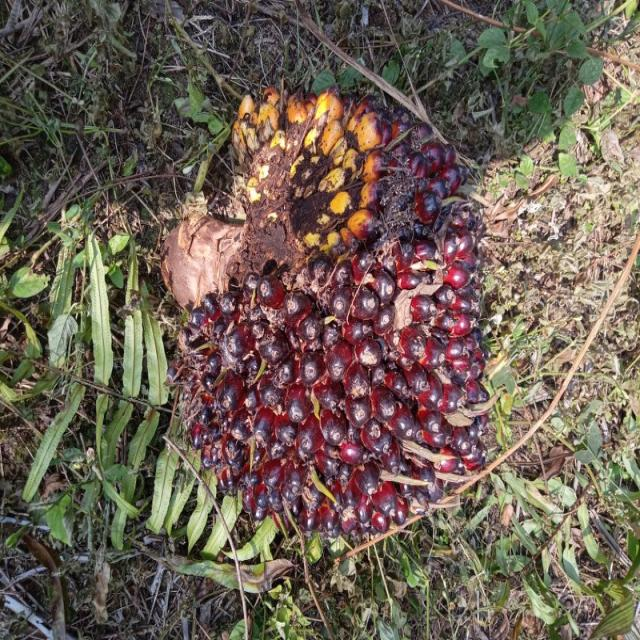fraksi 1: (135, 56, 528, 578)
